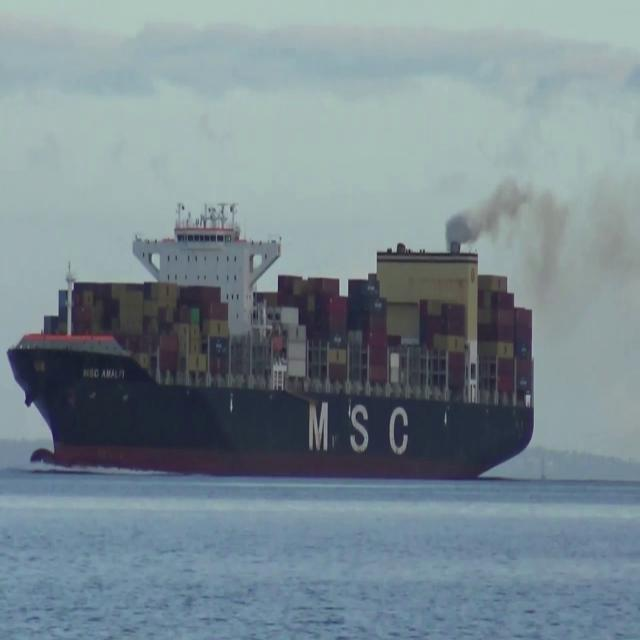OCR: (298, 396, 411, 466)
